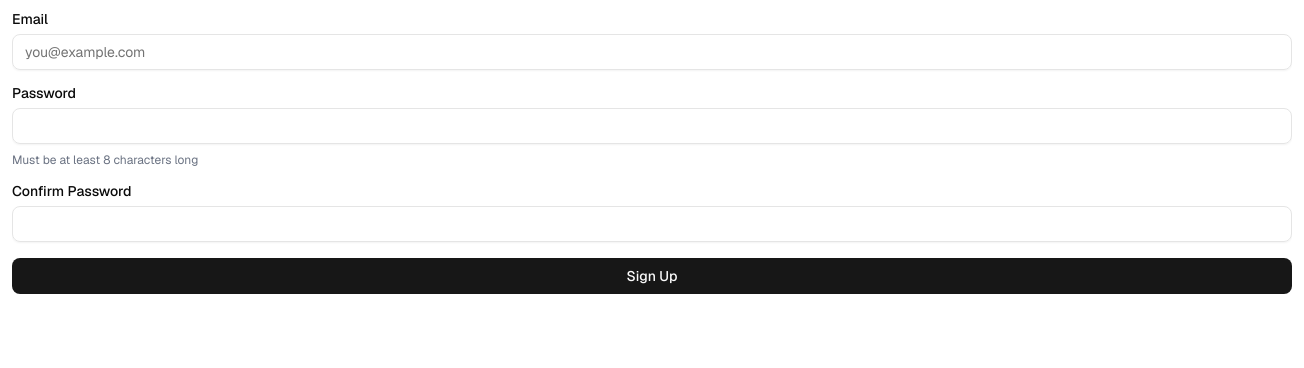
Test: shows default error message when error is not provided
In the field labelled "Email": (652, 52) [12,34,1292,70], type "new@example.com"
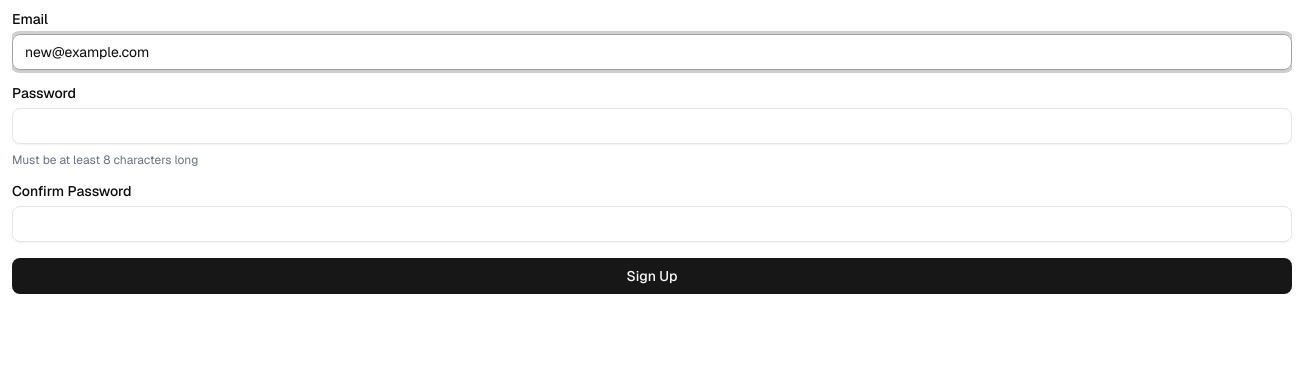
In the password field labelled "Password": (652, 126) [12,108,1292,144], type "password123"
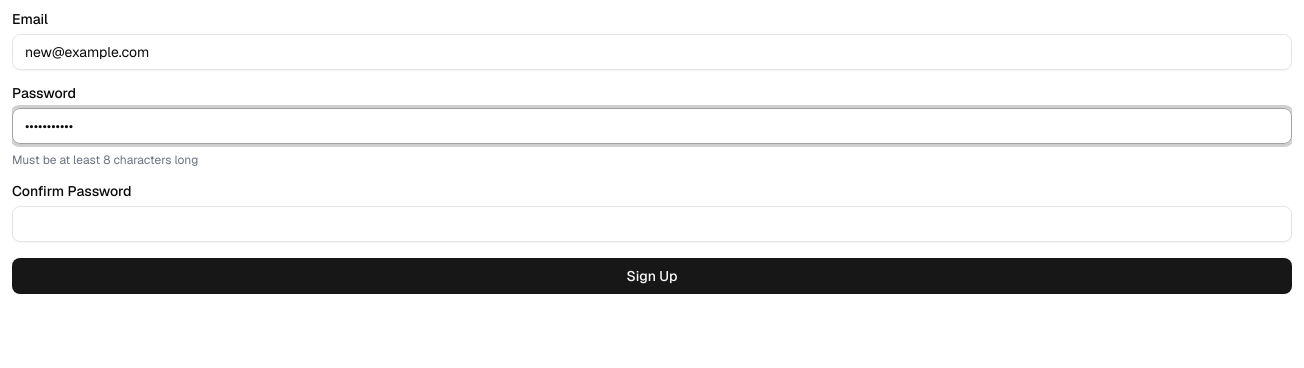
In the password field labelled "Confirm Password": (652, 224) [12,206,1292,242], type "password123"
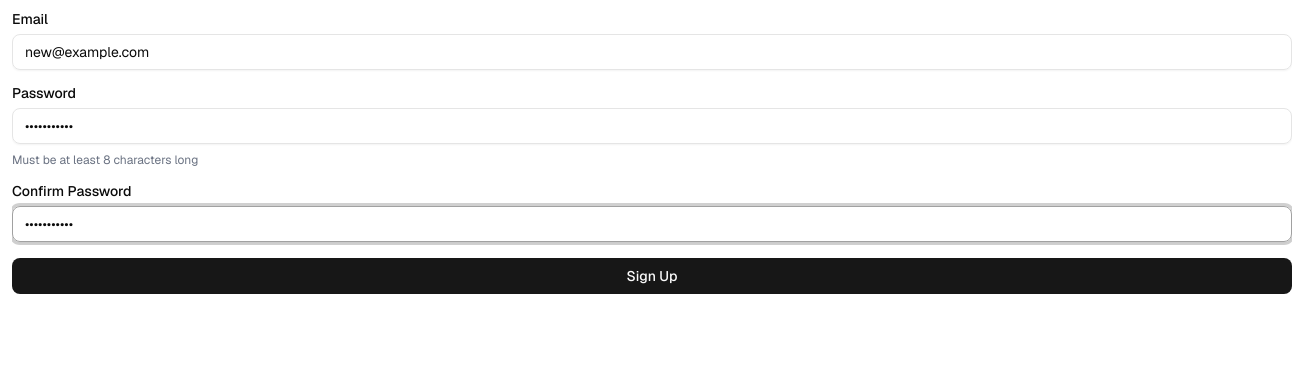
Click the button "Sign Up": (652, 276) [12,258,1292,294]
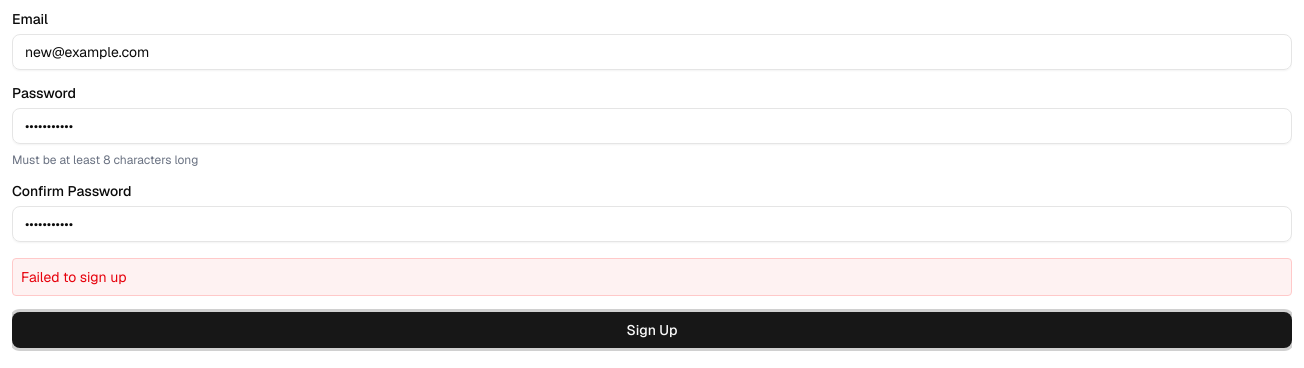
Now the text "Failed to sign up" is shown, box [12,258,1292,296]
